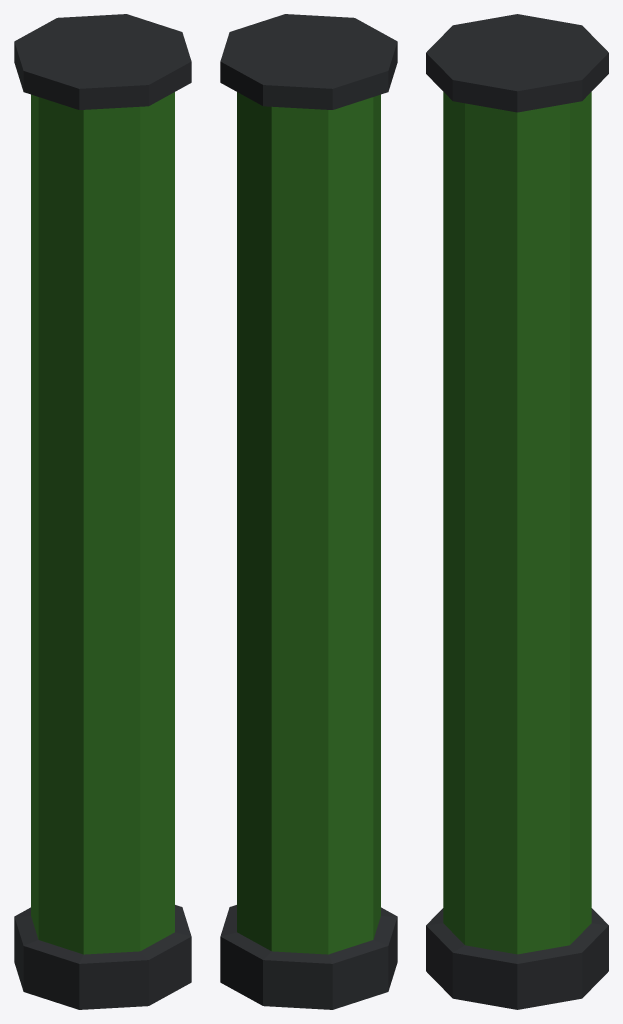
The model's file is SM_Prop_NeonLight_Large_04.fbx.
3 renders of one model, left to right at view 1: azimuth 30°, elevation 25°; view 2: azimuth 150°, elevation 25°; view 3: azimuth 270°, elevation 25°, orthographic.
Parts seen in each view (by area): view 1: SM_Prop_NeonLight_Large_04; view 2: SM_Prop_NeonLight_Large_04; view 3: SM_Prop_NeonLight_Large_04.
Part boxes in pixels (x1=…): SM_Prop_NeonLight_Large_04: x1=14, y1=14, x2=191, y2=1009; SM_Prop_NeonLight_Large_04: x1=220, y1=14, x2=397, y2=1009; SM_Prop_NeonLight_Large_04: x1=426, y1=14, x2=608, y2=1009.
Size of the model in its own units: 68.01 by 377 by 68.01.
